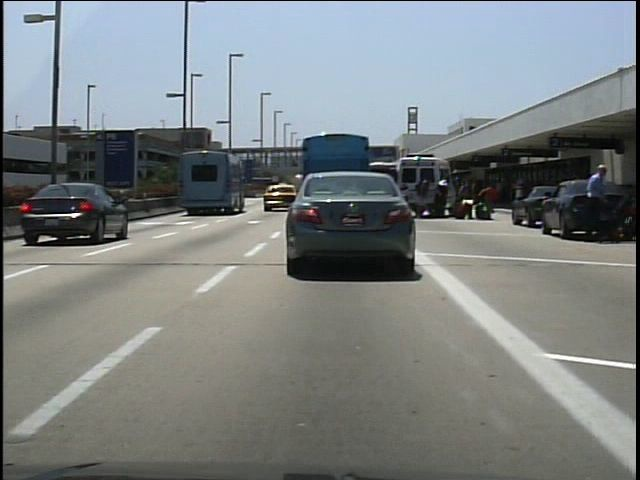person: (581, 158, 614, 243), (430, 175, 451, 222), (413, 173, 433, 220), (457, 176, 477, 221), (479, 180, 498, 223)
